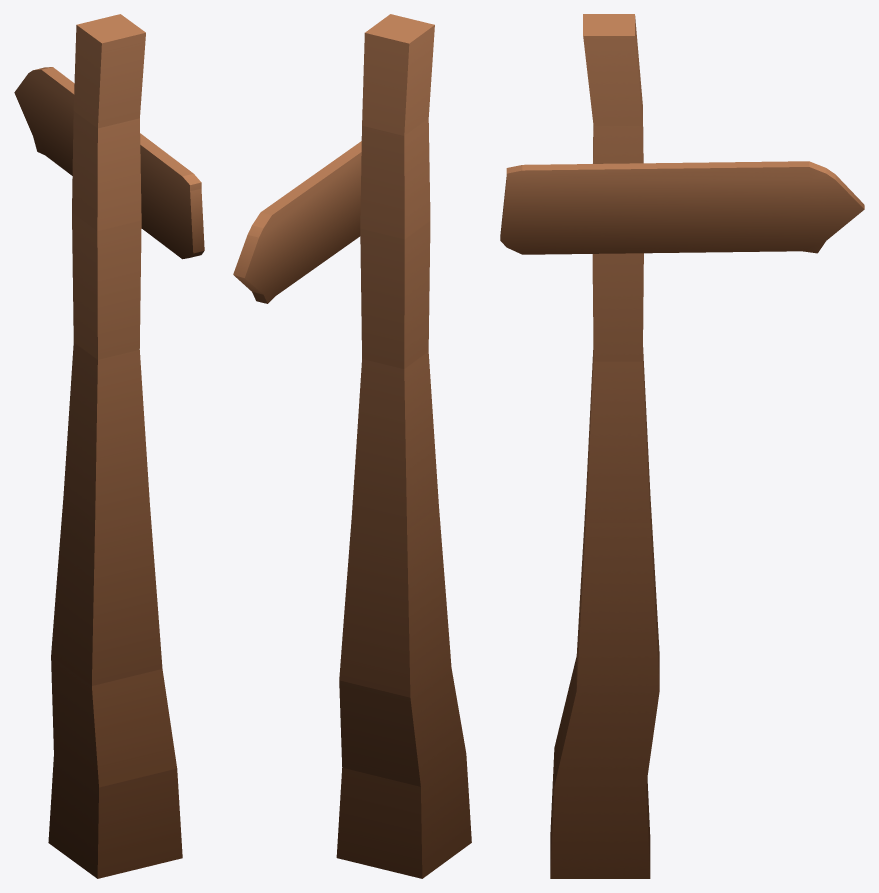
The model's file is Sign.fbx.
3 views of the same model, side by side, from view 1: azimuth 30°, elevation 25°; view 2: azimuth 150°, elevation 25°; view 3: azimuth 270°, elevation 25° (orthographic).
Parts seen in each view (by area): view 1: Cube.001, Cube.003; view 2: Cube.001, Cube.003; view 3: Cube.001, Cube.003.
Part boxes in pixels (x1,y1,x2,y2): Cube.001: (48,14,182,878); Cube.003: (14,67,204,259); Cube.001: (336,14,471,878); Cube.003: (233,141,361,303); Cube.001: (550,14,659,878); Cube.003: (500,161,864,254).
Size of the model in its own units: 102 by 940 by 372.
2 materials, 2 textured.
